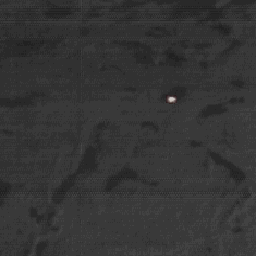Target: (167, 96, 176, 103)
